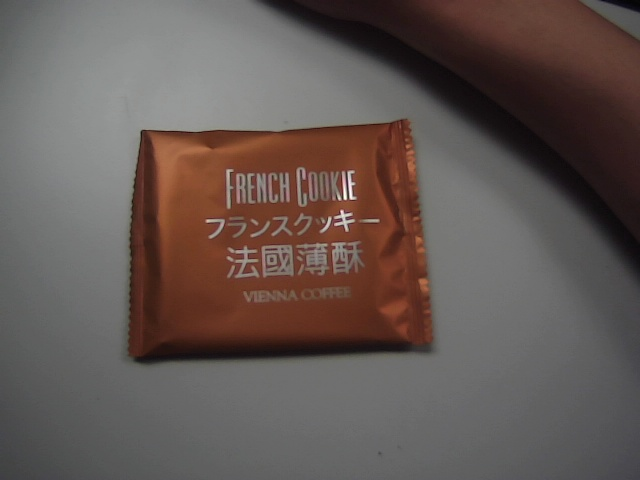frenchcookie: (119, 112, 454, 378)
